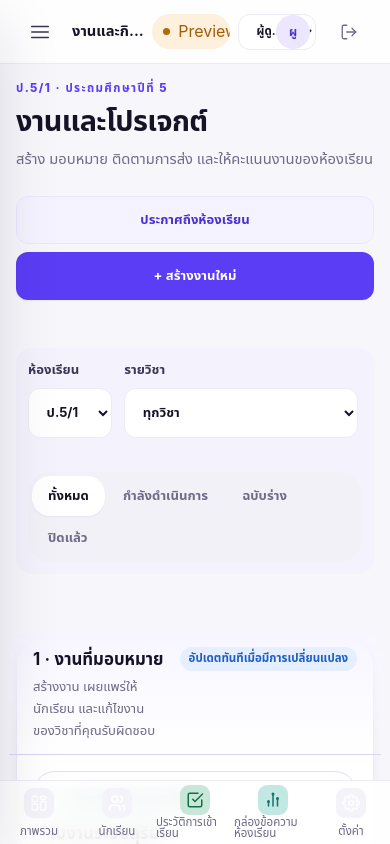
Test: the work form › does not offer to attach files to a work that does not exist yet
The width and height of the screenshot is (390, 844).
Click the button "+ สร้างงานใหม่" at (195, 276), box [16,252,374,300]
(page scrolled)
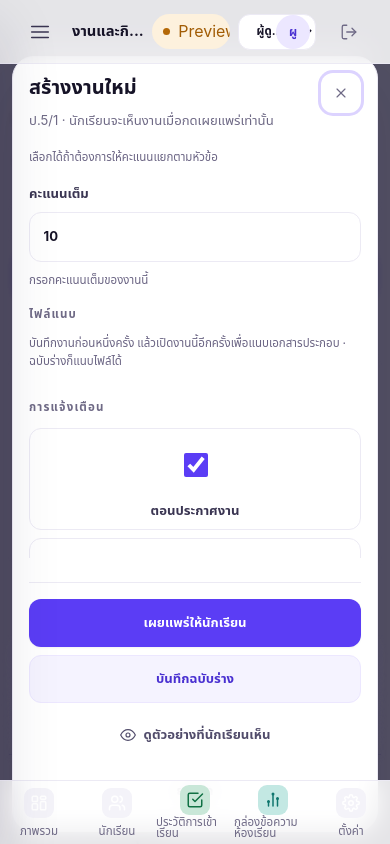
Expected: the text "บันทึกงานก่อนหนึ่งครั้ง" is shown, [29,335,346,370]
